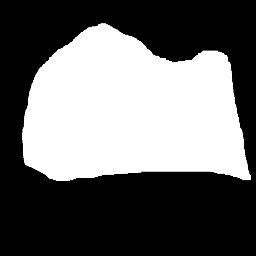mass: (36, 29, 241, 204)
